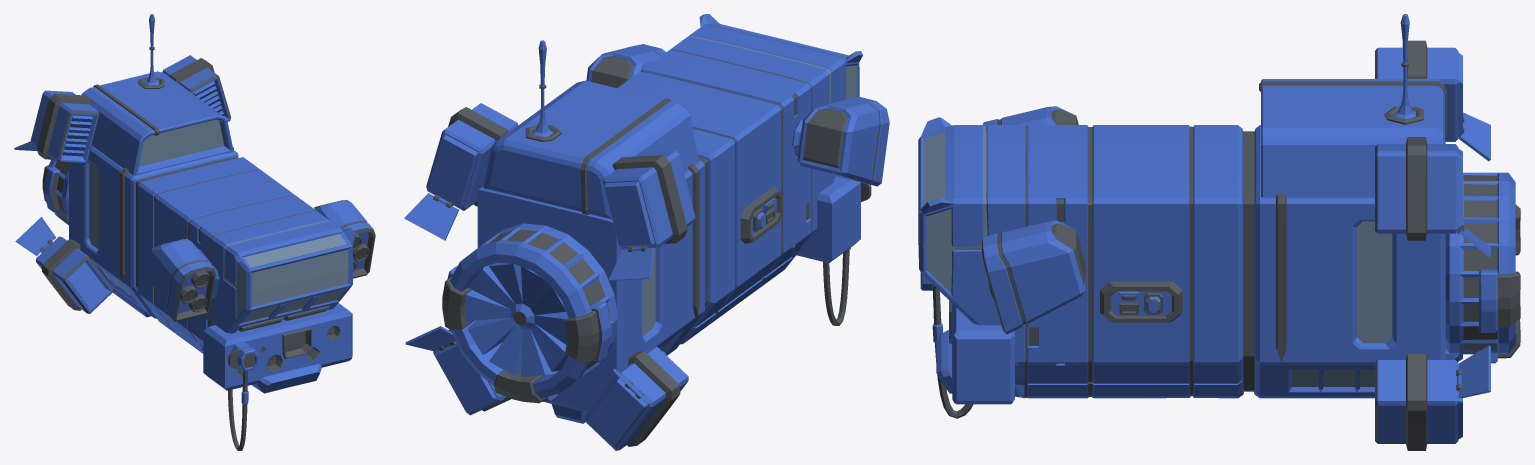
The model's file is Dropship_02_Blue.fbx.
The picture shows the model from 3 angles, left to right: view 1: azimuth 30°, elevation 25°; view 2: azimuth 150°, elevation 25°; view 3: azimuth 270°, elevation 25°; orthographic projection. The views are drawn at different scales.
Parts seen in each view (by area): view 1: Dropship_02_Blue; view 2: Dropship_02_Blue; view 3: Dropship_02_Blue.
Part boxes in pixels (left/top/right/bottom): Dropship_02_Blue: left=14, top=14, right=375, bottom=450; Dropship_02_Blue: left=404, top=14, right=889, bottom=450; Dropship_02_Blue: left=918, top=14, right=1520, bottom=450.
Size of the model in its own units: 798 by 1194 by 1443.
Materials: 3 (3 with a texture image).
